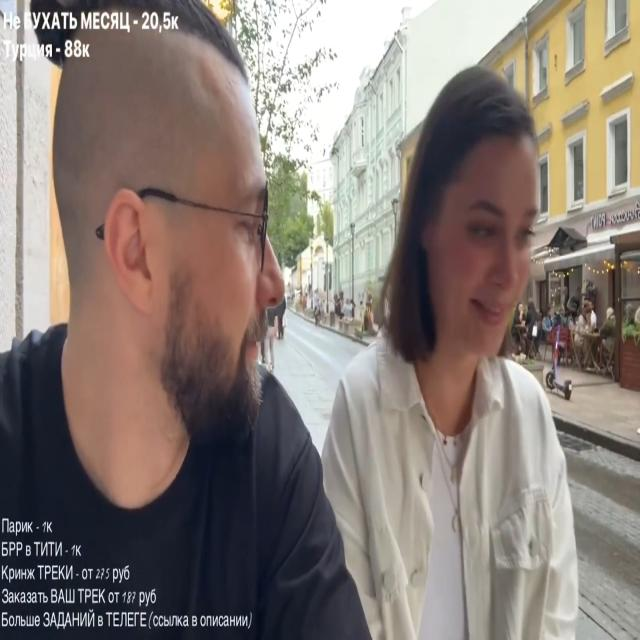Person: (0, 3, 368, 640), (304, 81, 620, 628), (572, 302, 598, 372)
